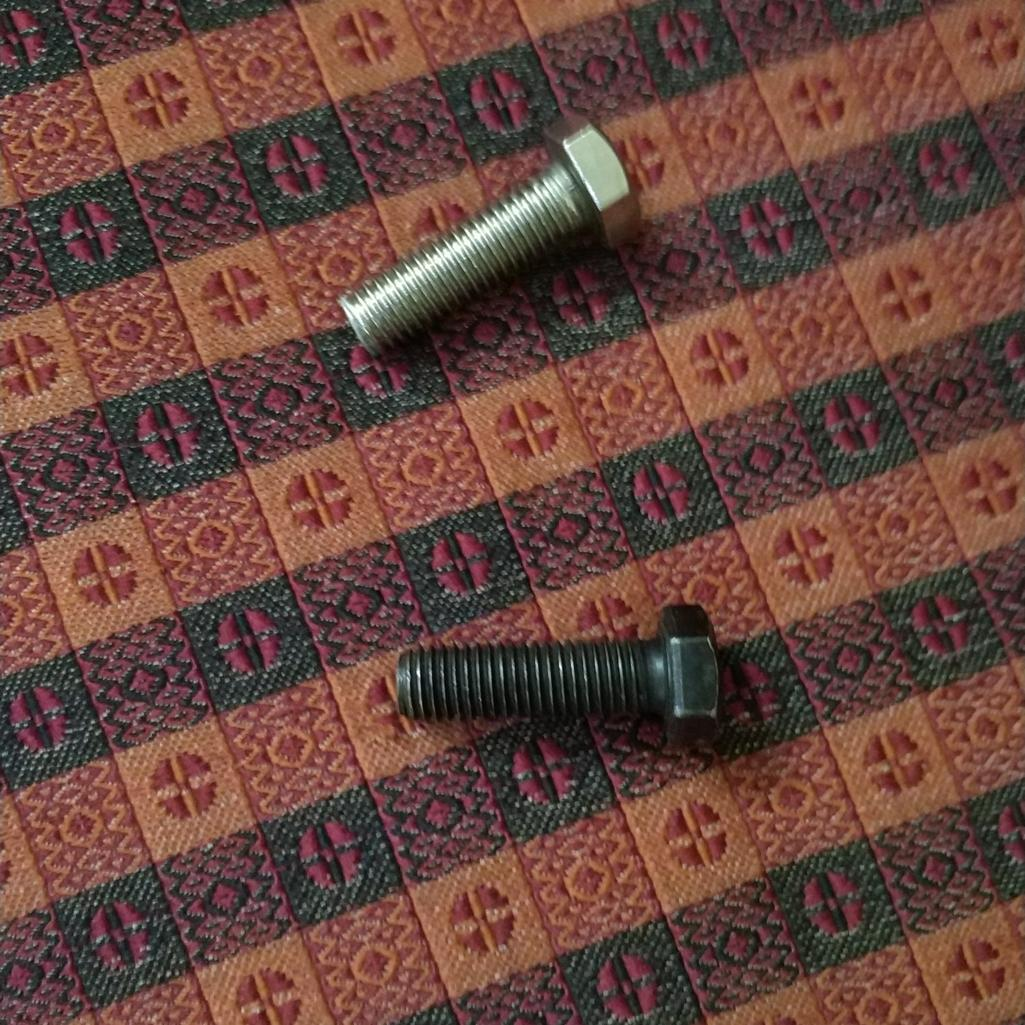screwtype2black: (397, 595, 734, 768)
screwtype2silver: (330, 108, 641, 366)
